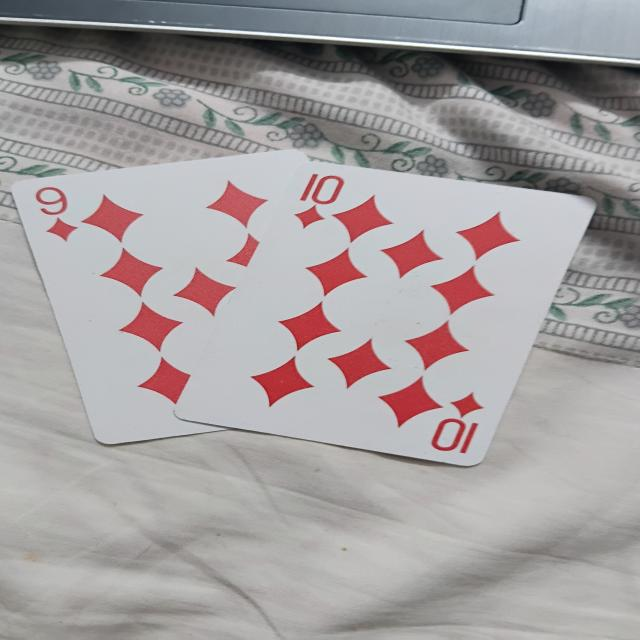10D: (178, 163, 604, 472)
